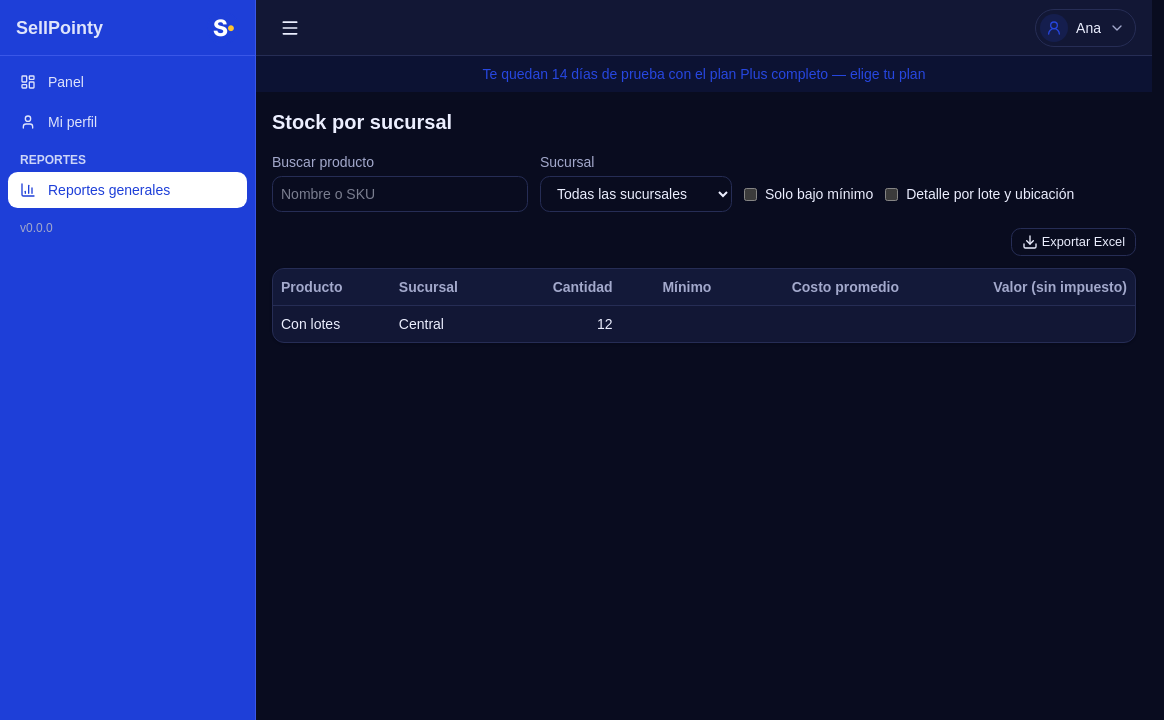
Scenario: Pantallas de reporte (F5-STK-04 / F5-SALES-03) › stock por sucursal (F5-STK-04) › el detalle por lote cambia las columnas y consulta de nuevo
Click the checkbox labelled "Detalle por lote y ubicación": point(892, 194) [885,188,898,200]
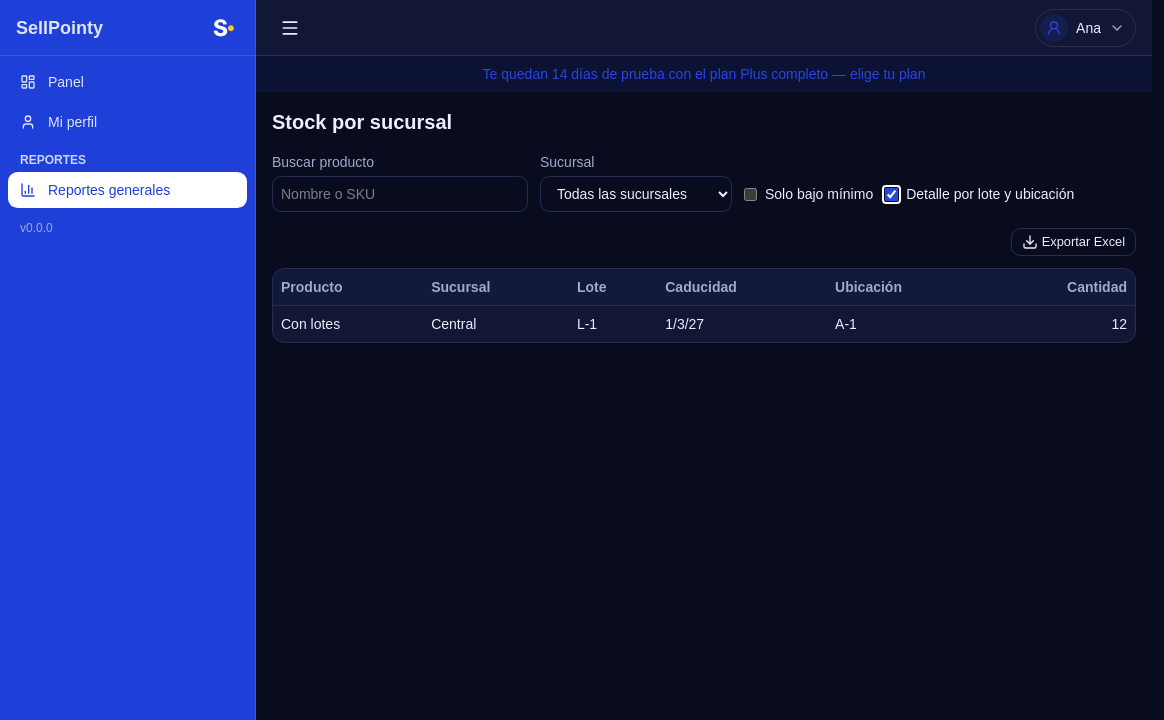
Now the column heading "Ubicación" is shown, box [827,269,988,306]
